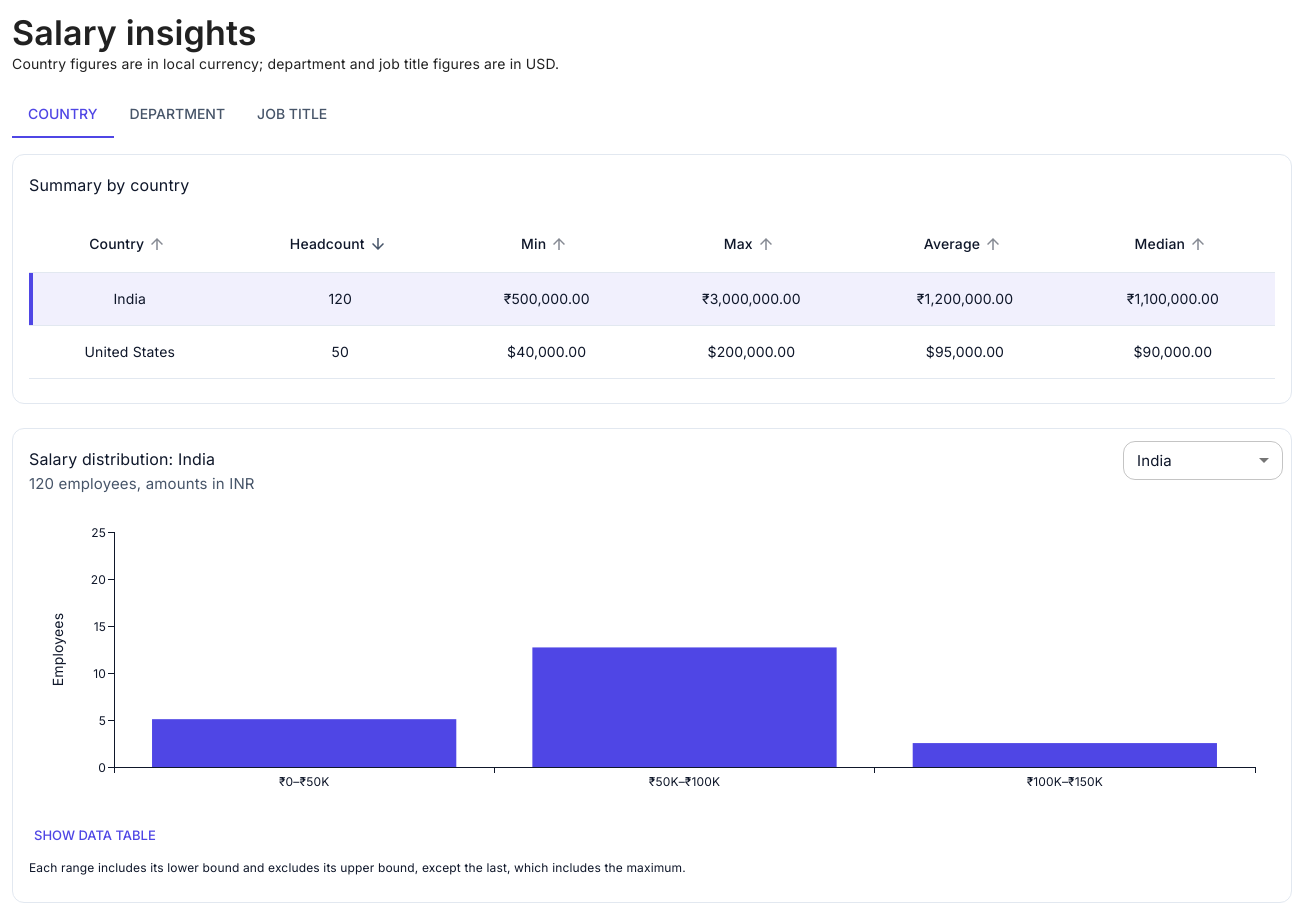
Test: InsightsPage › Department tab: labels are plain department names, figures are USD
Expected: the table named "Summary by country" is shown, [29, 215, 1275, 379]
What coordinates should you click on to do the following:
click the tab "Department"
I would click on:
 (177, 114)
Its box is [114, 90, 241, 138].
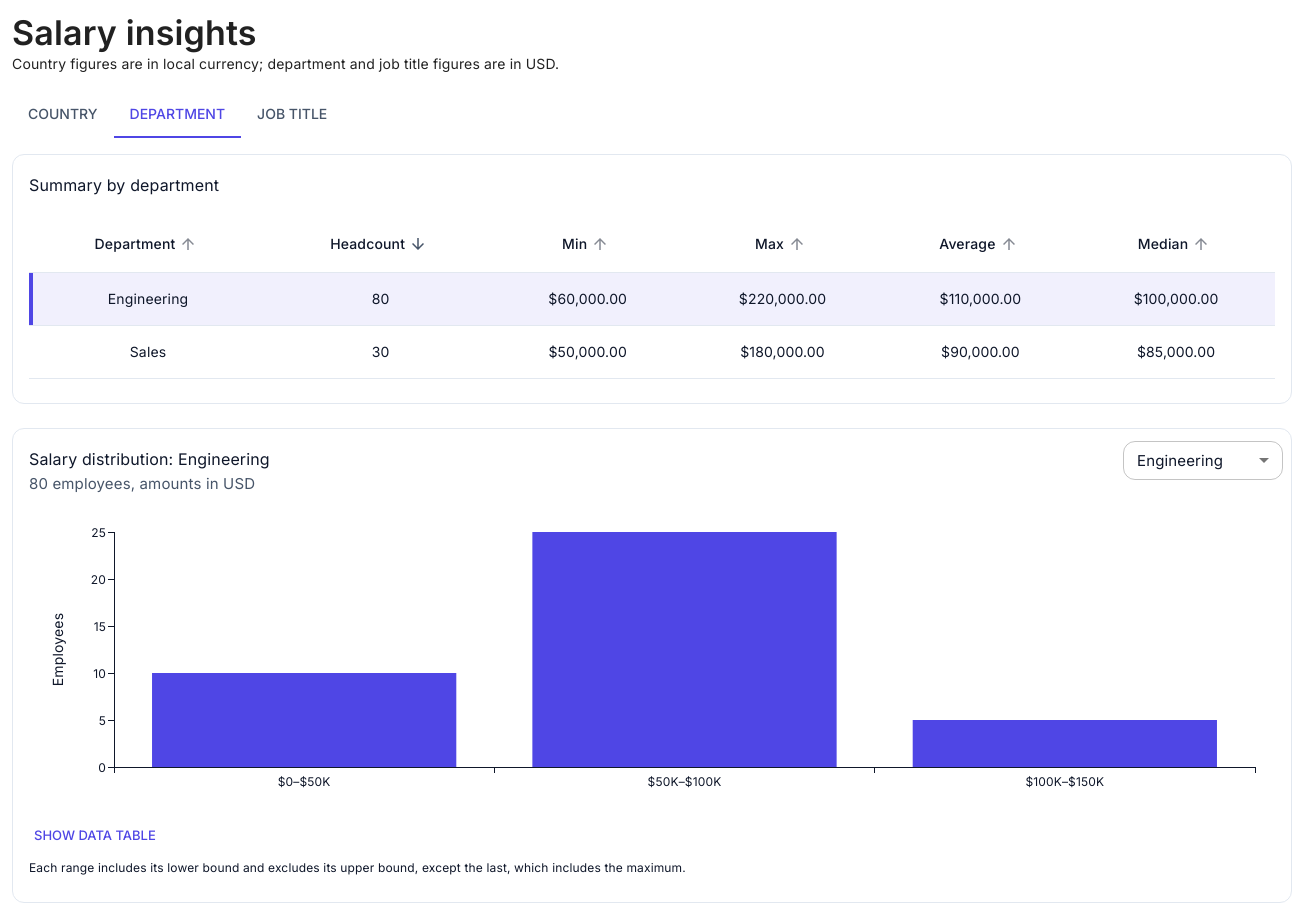
Now the text "Engineering" is shown, box [29, 273, 267, 326]
Now the text "Sales" is shown, box [29, 326, 267, 379]
Now the text "$60,000.00" is shown, box [494, 273, 681, 326]
